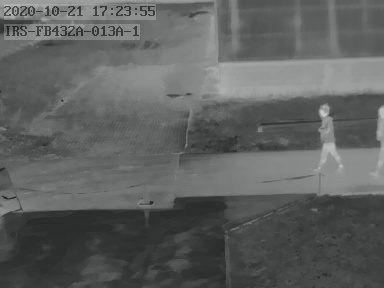person: (315, 102, 342, 172)
